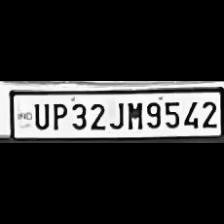2: (86, 99, 106, 131), (198, 97, 216, 128)
3: (67, 98, 87, 130)
4: (180, 97, 198, 128)
5: (160, 97, 180, 128)
9: (142, 97, 162, 128)
J: (108, 98, 125, 130)
M: (124, 99, 142, 131)
P: (48, 100, 68, 130)
U: (29, 100, 49, 130)
